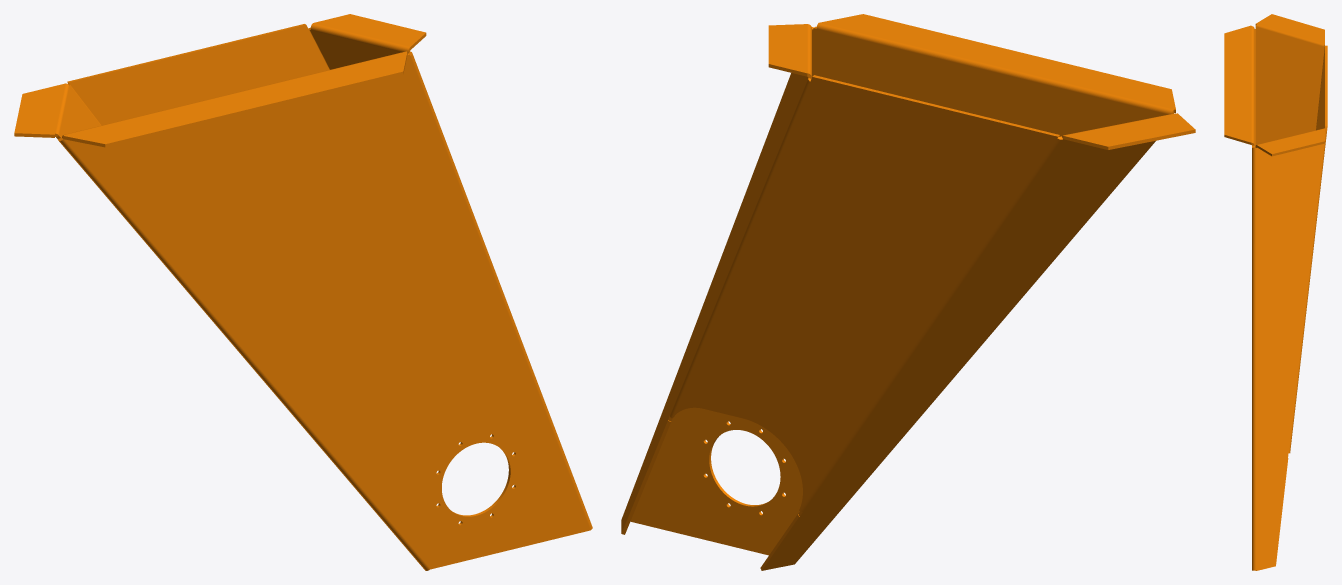
The model's file is Legs_v1-Leg_R-R.dae.
3 renders of one model, left to right at view 1: azimuth 30°, elevation 25°; view 2: azimuth 150°, elevation 25°; view 3: azimuth 270°, elevation 25°, orthographic. The views are drawn at different scales.
Parts seen in each view (by area): view 1: 5d3794eec0e79015cfd1d296; view 2: 5d3794eec0e79015cfd1d296; view 3: 5d3794eec0e79015cfd1d296.
Boxes of the visible parts, x1=… form: 5d3794eec0e79015cfd1d296: x1=14, y1=14, x2=592, y2=570; 5d3794eec0e79015cfd1d296: x1=621, y1=14, x2=1195, y2=570; 5d3794eec0e79015cfd1d296: x1=1224, y1=14, x2=1327, y2=570.
Bounding box in the file's own units: 0.574 × 0.1302 × 0.5099.
